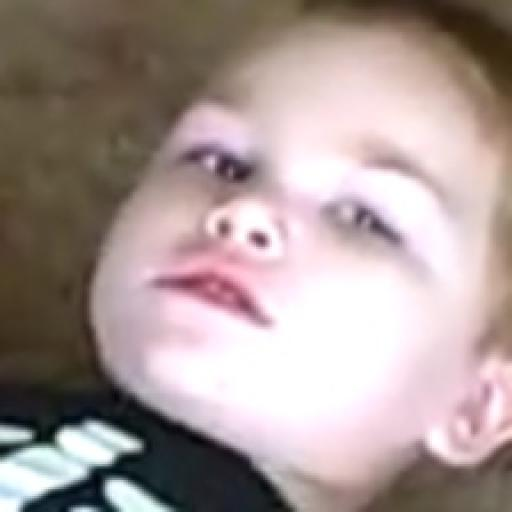Autism: (70, 47, 512, 512)
